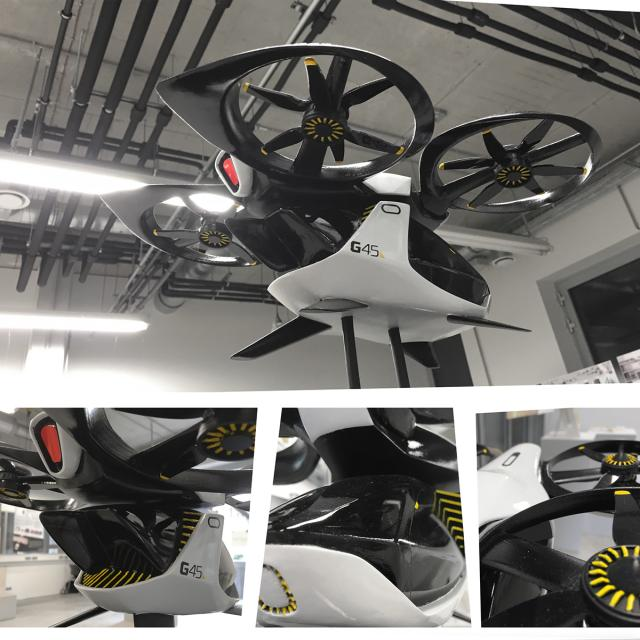drone: (98, 39, 609, 370)
